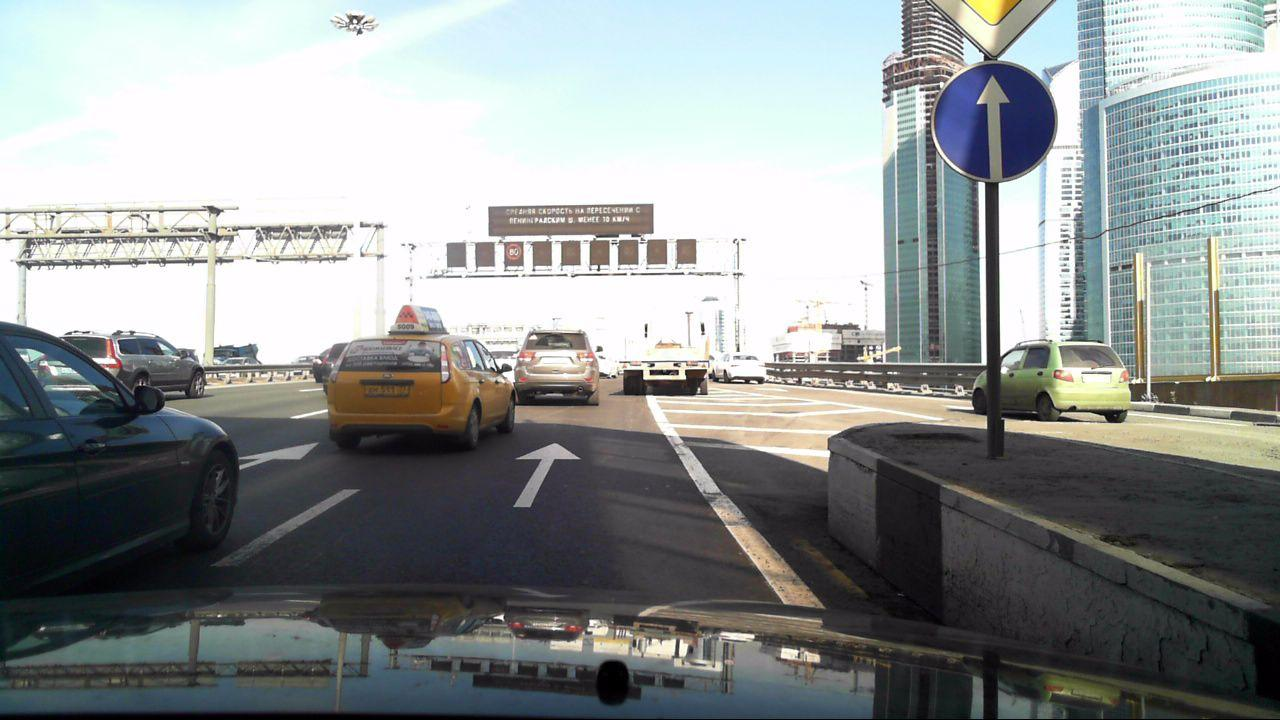2_1: (927, 0, 1061, 58)
4_1_1: (926, 60, 1061, 185)
